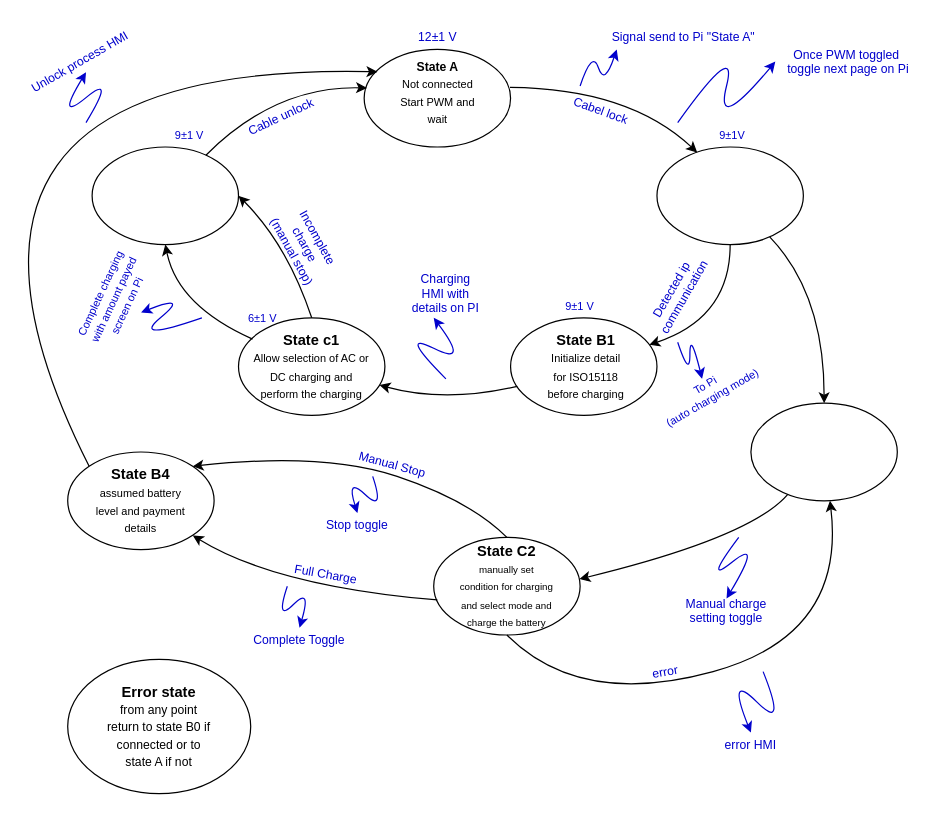
The diagram is 943 pixels wide and 816 high, and some of its shapes have lost their labels. The centre of each missing label's shape, as x and y in pixels:
"State B0 Connected and not ready for charging" goes at (x=729, y=195).
"State B2 check for battery status connected and not charge" goes at (x=165, y=195).
"State B3 Manually initialize conditions for IEC 61851 before charging" goes at (x=823, y=451).
